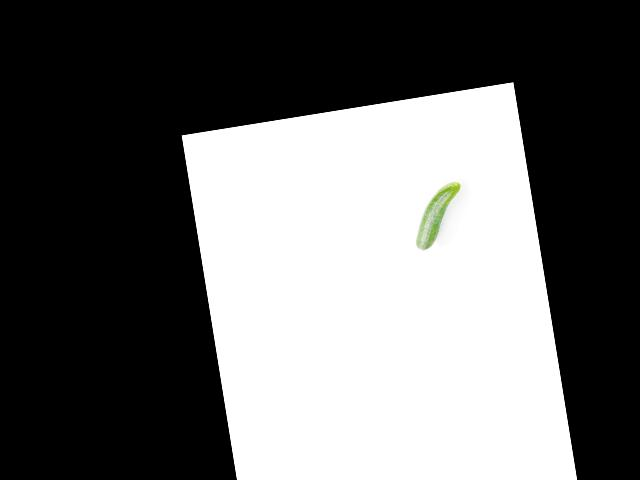cucumber: (407, 181, 470, 251)
